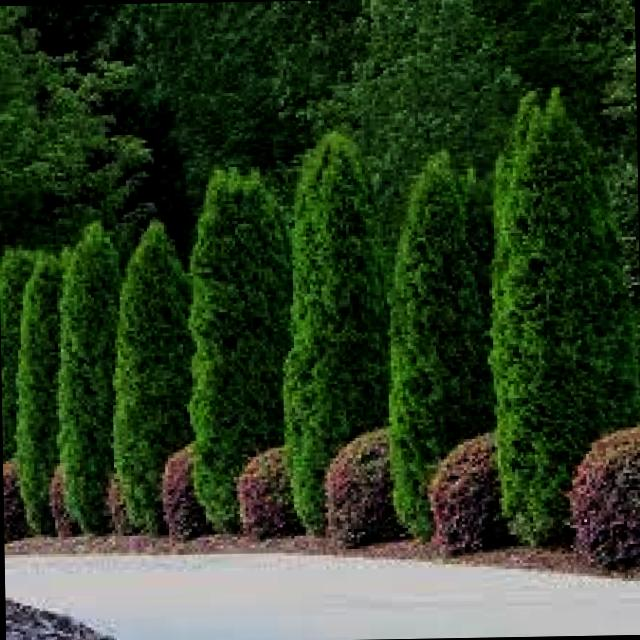foliage: (492, 95, 639, 546), (282, 136, 388, 535), (390, 157, 494, 539), (189, 172, 290, 531), (114, 219, 196, 535), (49, 223, 121, 530), (14, 248, 73, 535), (427, 432, 516, 555), (569, 424, 640, 578), (324, 428, 405, 552), (236, 447, 305, 547), (159, 446, 211, 540), (44, 463, 79, 533), (108, 477, 134, 535)
